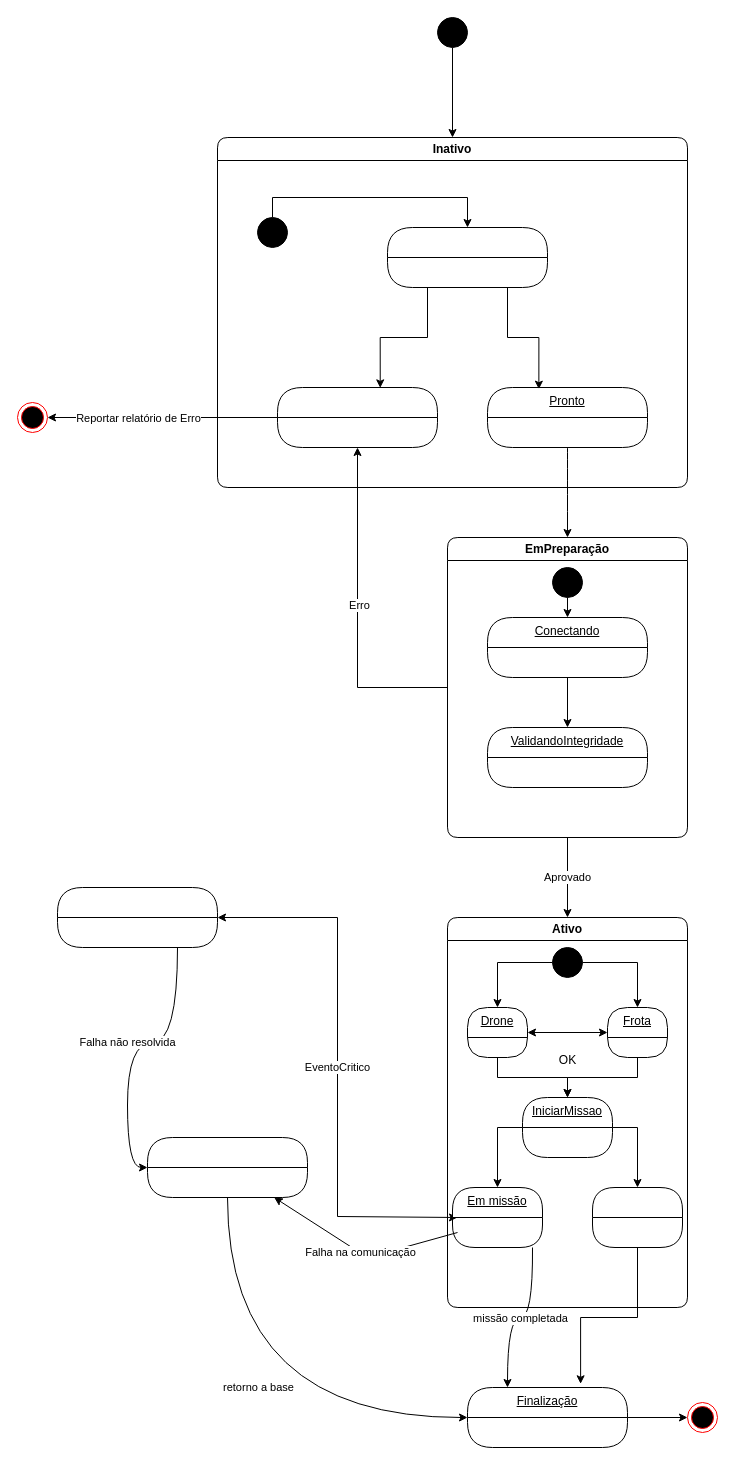
Some shapes in this 735 by 1465 pixel diagram are drawn without their labels. The shapes that lost their labels are listed below. From the top down, each one's centre as x and y in pixels, then its label:
(467,257): AutoDiagnóstico
(357,417): Comprometido
(137,917): ModoContigencia
(227,1167): RetornoEmergencia
(637,1217): Dashboard
